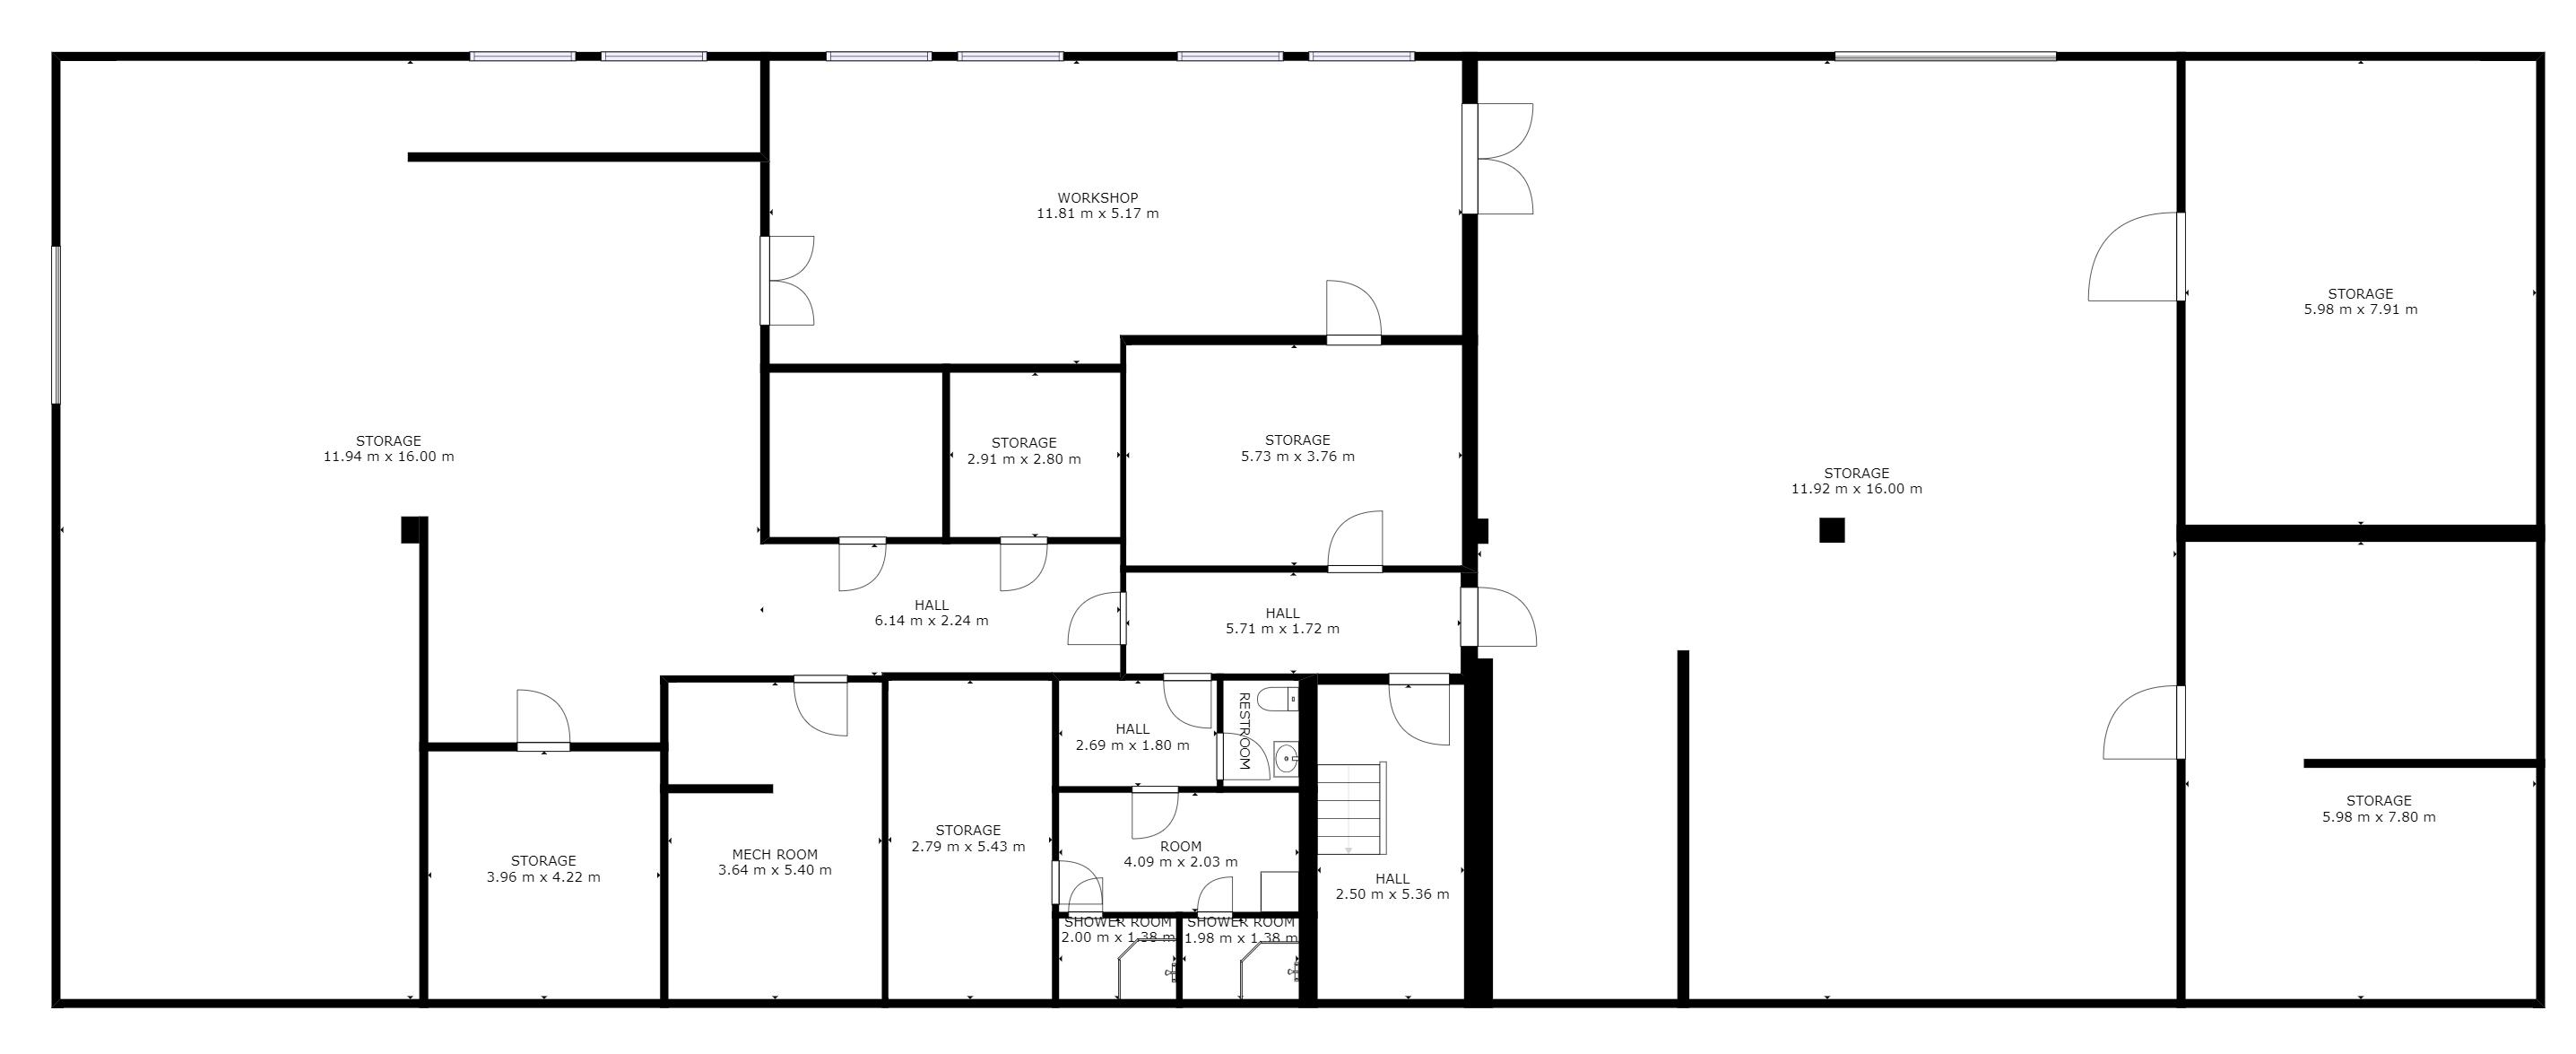room: (1472, 58, 2185, 1003), (766, 56, 1472, 367), (2182, 58, 2541, 533), (2180, 536, 2541, 1003), (1122, 339, 1470, 569), (665, 679, 885, 1003), (424, 745, 662, 1003), (885, 677, 1056, 1003), (1308, 677, 1470, 1003), (766, 368, 946, 541), (1055, 789, 1303, 914), (946, 367, 1120, 541), (1055, 677, 1222, 789), (1055, 911, 1181, 1003), (1180, 914, 1306, 1003), (1219, 676, 1303, 789)
